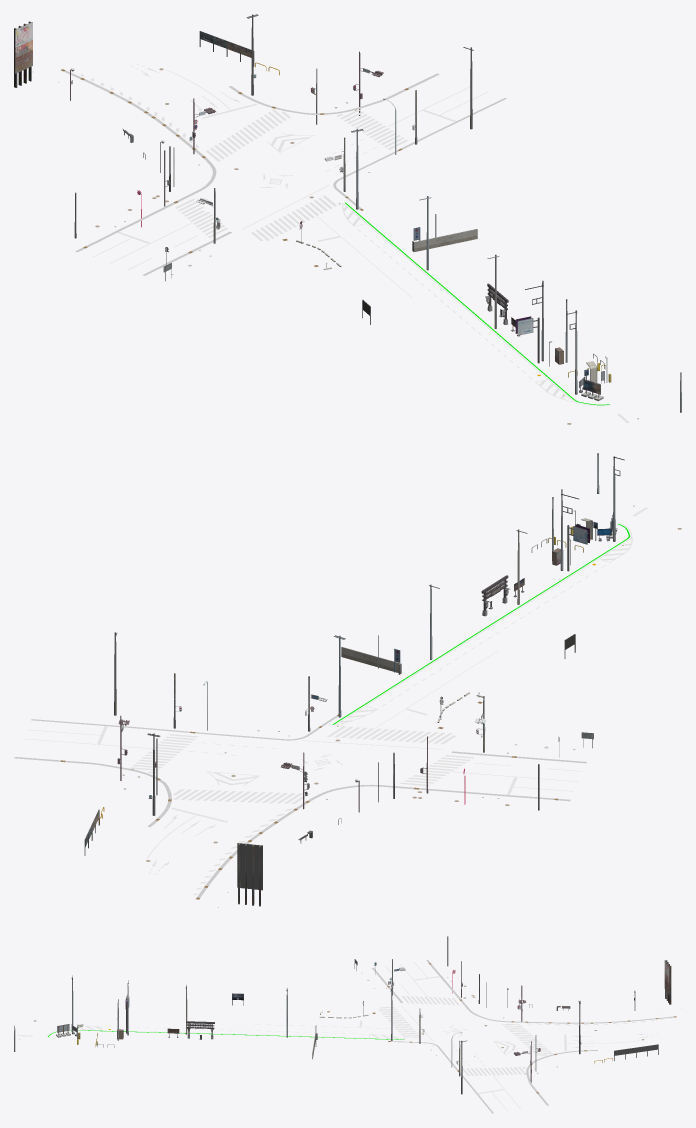
Rendered from frn--3.glb.
3 views of the same model, one above another, from view 1: azimuth 30°, elevation 25°; view 2: azimuth 150°, elevation 25°; view 3: azimuth 270°, elevation 25° (orthographic). The views are drawn at different scales.
Size of the model in its own units: 78.16 by 15.05 by 144.
2 materials, 1 textured.
